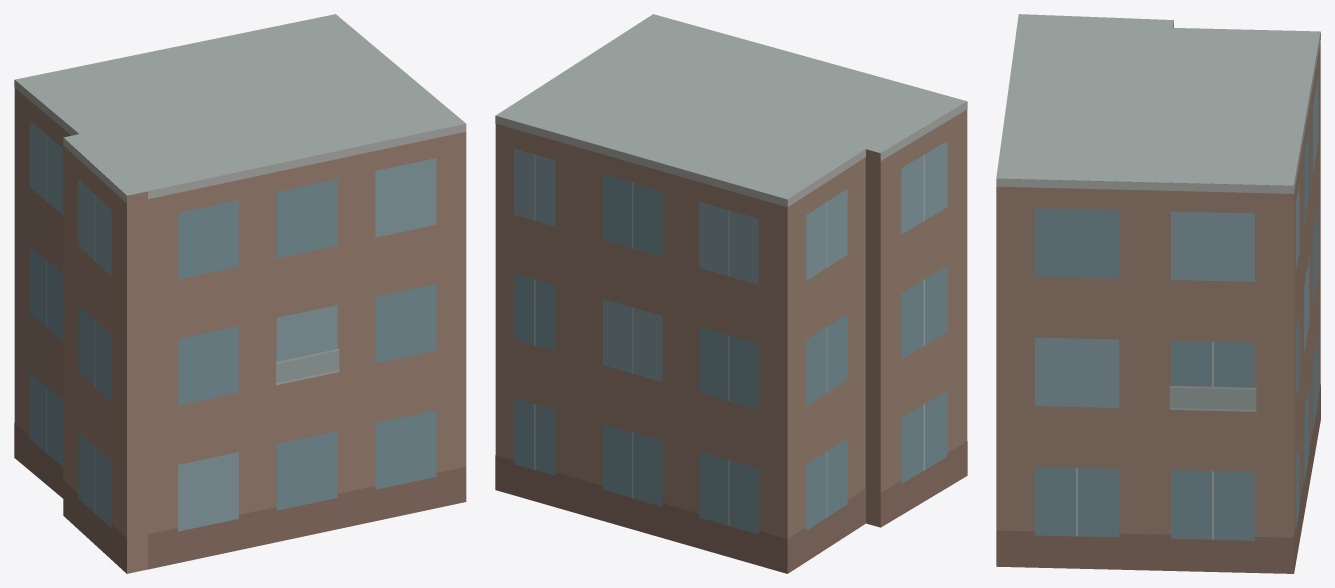
The model's file is survey-upis-32637338.glb.
3 views of the same model, side by side, from view 1: azimuth 30°, elevation 25°; view 2: azimuth 150°, elevation 25°; view 3: azimuth 270°, elevation 25° (orthographic). The views are drawn at different scales.
Parts seen in each view (by area): view 1: survey-upis-32637338.tmp; view 2: survey-upis-32637338.tmp; view 3: survey-upis-32637338.tmp.
Part boxes in pixels (<box>): survey-upis-32637338.tmp: <box>14,14,466,573</box>; survey-upis-32637338.tmp: <box>495,14,967,573</box>; survey-upis-32637338.tmp: <box>996,14,1320,573</box>.
Size of the model in its own units: 11.01 by 11.6 by 8.8.
